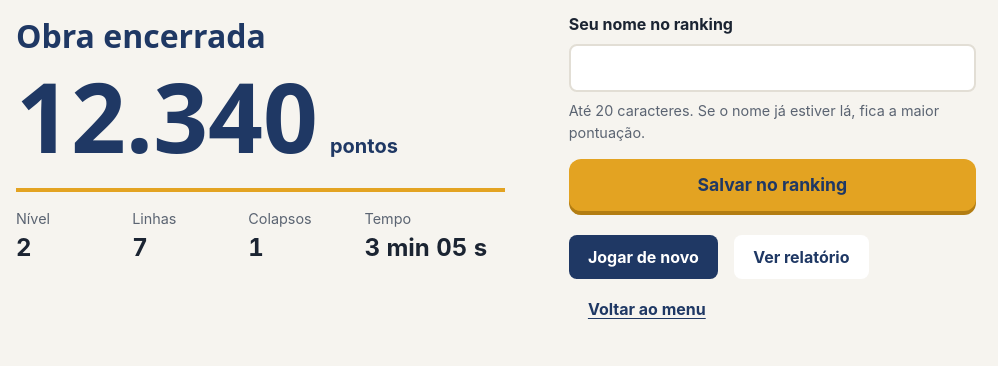
FimDePartida › o erro some quando o jogador volta a digitar
Click the button "Salvar no ranking": (772, 185) [569, 159, 976, 211]
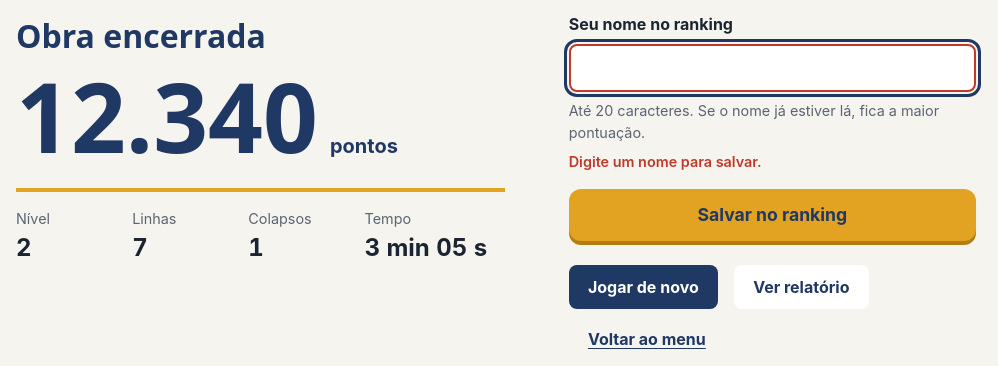
Check: the message "Digite um nome para salvar." is shown, box [569, 153, 762, 170]
In the field labelled "Seu nome no ranking": (772, 68) [569, 44, 976, 92], type "A"
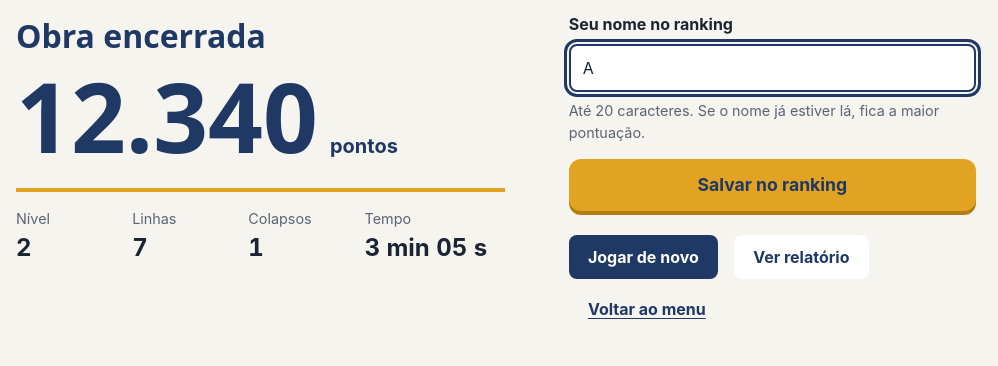
Check: the message "Digite um nome para salvar." is gone
